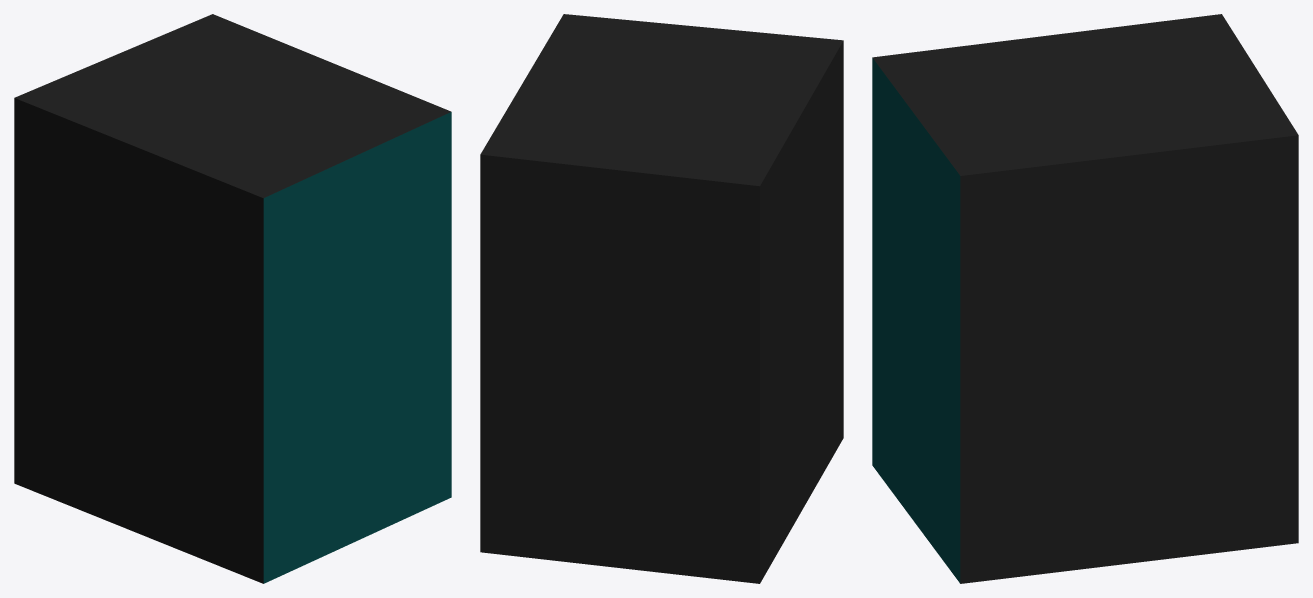
File: B_Werth_55_A_.FBX
3 views of the same model, side by side, from view 1: azimuth 30°, elevation 25°; view 2: azimuth 150°, elevation 25°; view 3: azimuth 270°, elevation 25° (orthographic). The views are drawn at different scales.
Visible parts, largest first — view 1: B_Werth_55_A, B_Werth_55_front; view 2: B_Werth_55_A; view 3: B_Werth_55_A, B_Werth_55_front.
Part boxes in pixels (left/top/right/bottom): B_Werth_55_A: left=14, top=14, right=451, bottom=583; B_Werth_55_front: left=263, top=112, right=451, bottom=583; B_Werth_55_A: left=480, top=14, right=843, bottom=583; B_Werth_55_A: left=872, top=14, right=1298, bottom=583; B_Werth_55_front: left=872, top=58, right=960, bottom=583.
Bounding box in the file's own units: 1448 × 1700 × 1610.
